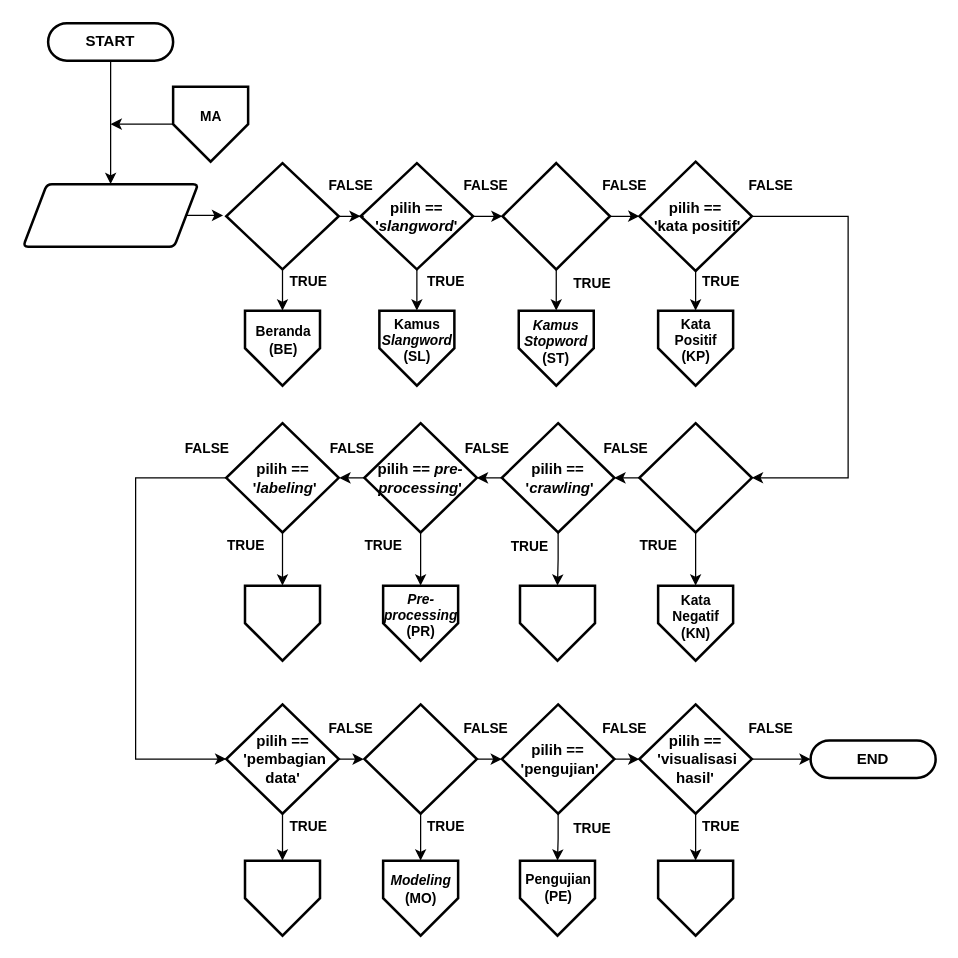
Some shapes in this 958 by 958 pixel diagram are drawn without their labels. The centre of each missing label's shape, as x and y in pixels:
Crawling (CR): (557,622)
Input pilih menu: (110,214)
Labeling (LA): (282,622)
Pembagian Data (PD): (282,897)
pilih == ' modeling ': (420,758)
pilih == ' stopword ': (556,215)
pilih == 'beranda': (281,215)
pilih == 'kata negatif': (695,477)
Visualisasi Hasil (VH): (695,897)
